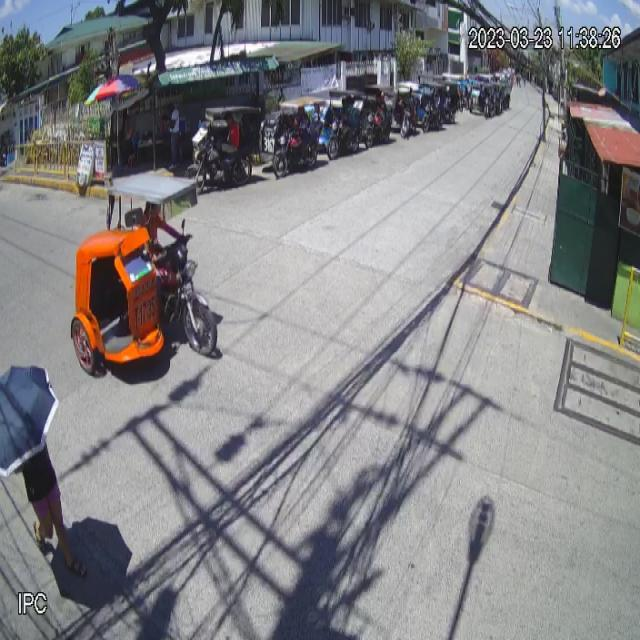Tricycle: (70, 170, 218, 376)
